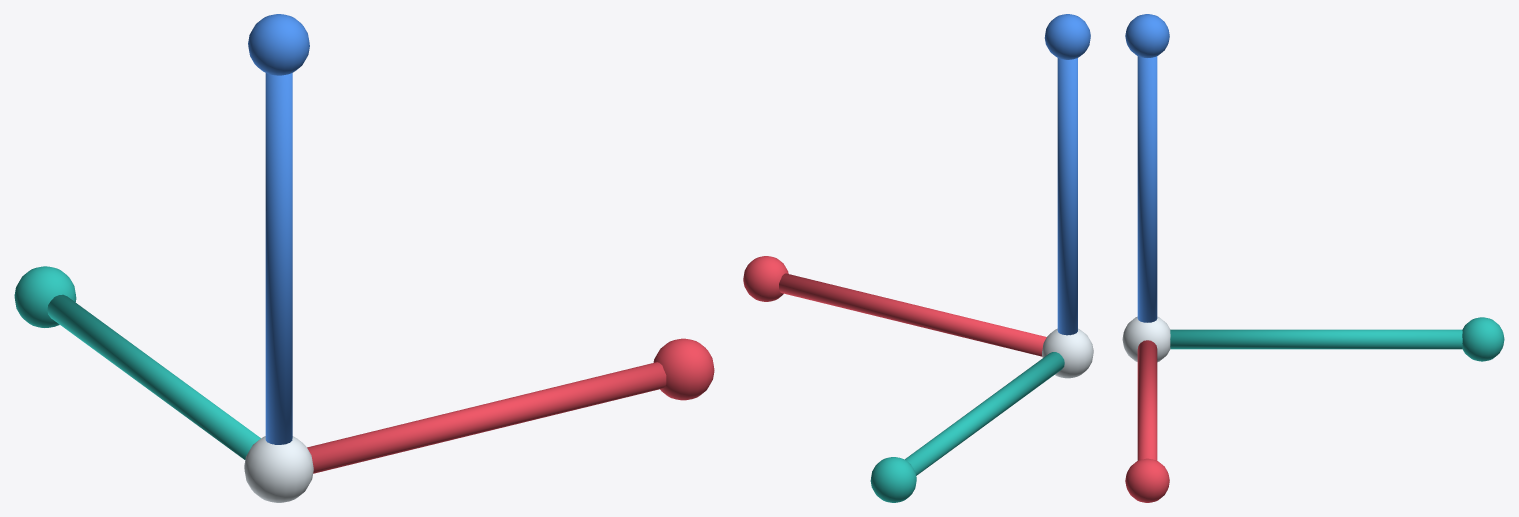
Rendered from coordinate-axes-lite.glb.
The picture shows the model from 3 angles, left to right: view 1: azimuth 30°, elevation 25°; view 2: azimuth 150°, elevation 25°; view 3: azimuth 270°, elevation 25°; orthographic projection. The views are drawn at different scales.
Visible parts, largest first — view 1: X axis; view 2: X axis; view 3: X axis.
Part boxes in pixels (left/top/right/bottom): X axis: left=14, top=14, right=714, bottom=502; X axis: left=743, top=14, right=1093, bottom=502; X axis: left=1122, top=14, right=1504, bottom=502.
Bounding box in the file's own units: 1.37 × 1.37 × 1.37.
